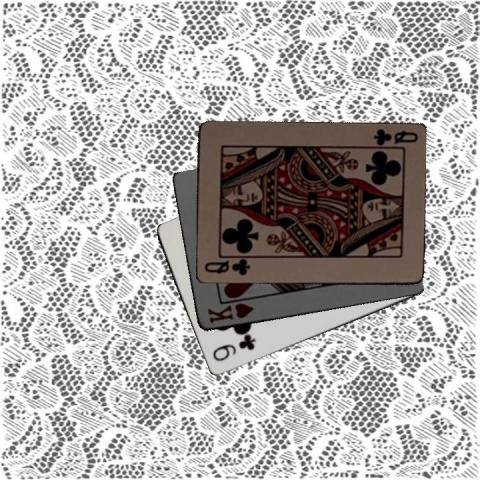9c: (209, 335, 257, 363)
Kh: (205, 300, 255, 325)
Qc: (202, 257, 252, 278), (371, 126, 419, 147)
